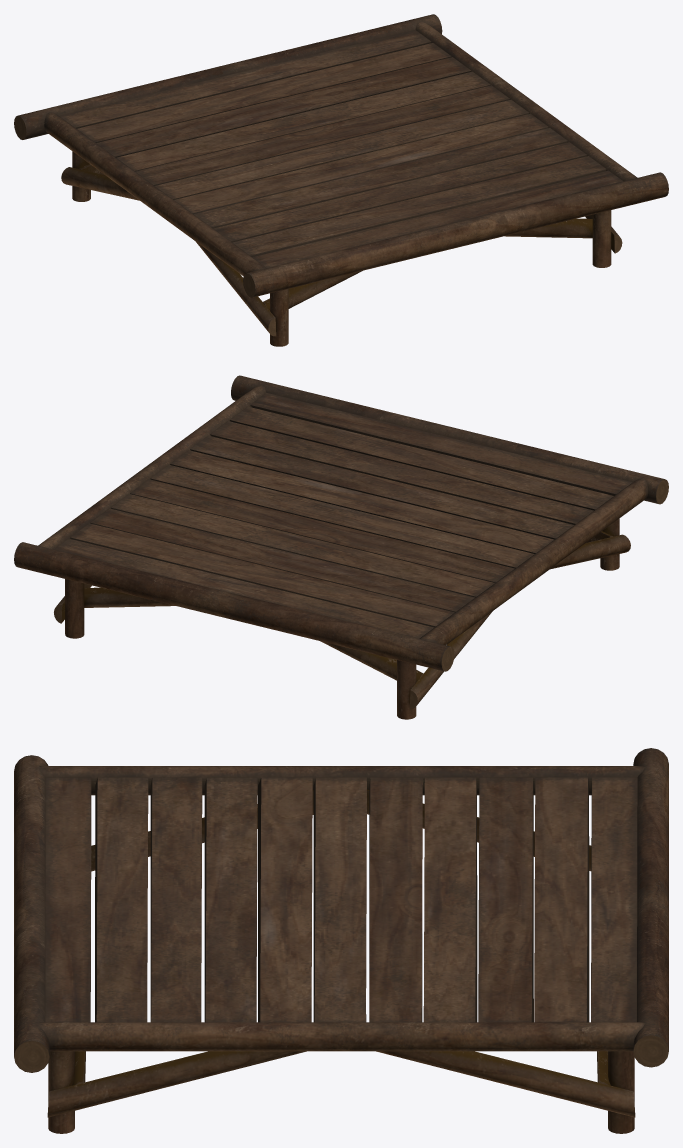
Rendered from low_wooden_bench.glb.
3 renders of one model, top to bottom at view 1: azimuth 30°, elevation 25°; view 2: azimuth 150°, elevation 25°; view 3: azimuth 270°, elevation 25°, orthographic. The views are drawn at different scales.
Visible parts, largest first — view 1: SM_Low_Wooden_Bench; view 2: SM_Low_Wooden_Bench; view 3: SM_Low_Wooden_Bench.
Part boxes in pixels (x1,y1,x2,y2): SM_Low_Wooden_Bench: [14, 14, 668, 346]; SM_Low_Wooden_Bench: [14, 375, 668, 719]; SM_Low_Wooden_Bench: [14, 748, 668, 1133].
Bounding box in the file's own units: 2.39 × 0.4654 × 2.26.
1 material, 1 textured.
